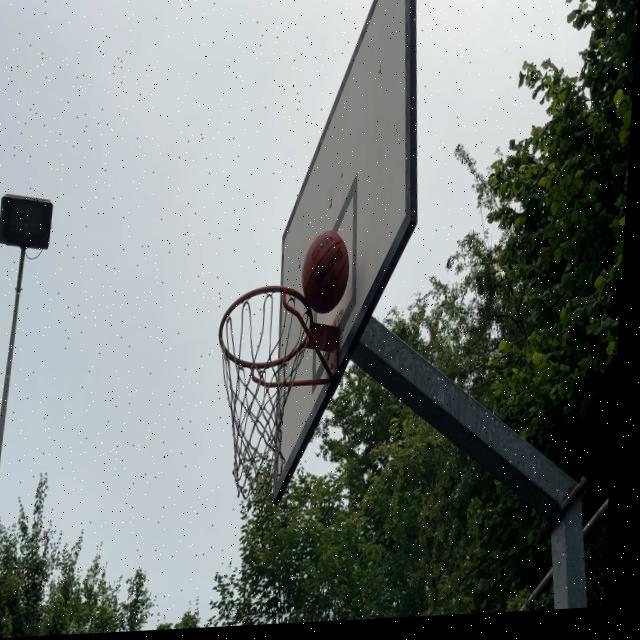rebound_hit: (299, 228, 352, 314)
